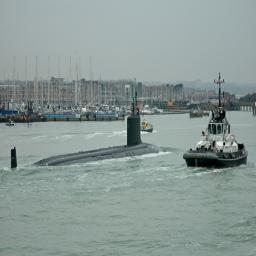submarine: (12, 76, 172, 170)
